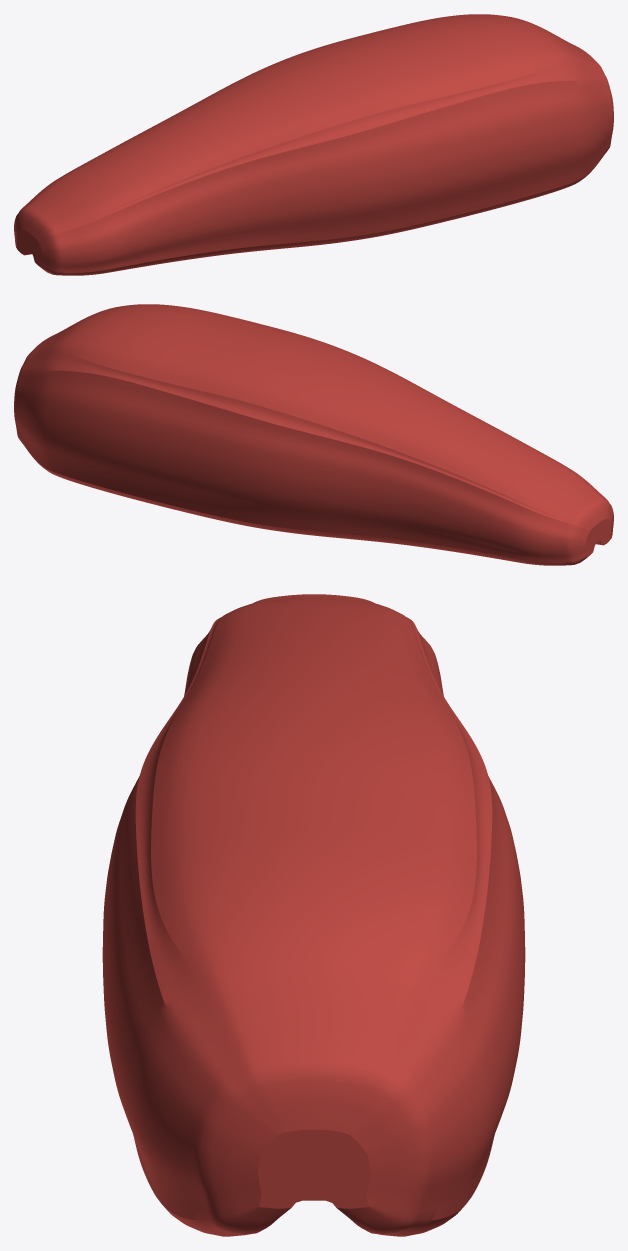
File: cruiser_4.glb
3 views of the same model, one above another, from view 1: azimuth 30°, elevation 25°; view 2: azimuth 150°, elevation 25°; view 3: azimuth 270°, elevation 25° (orthographic). The views are drawn at different scales.
Visible parts, largest first — view 1: cruiser_4; view 2: cruiser_4; view 3: cruiser_4.
Boxes of the visible parts, left/top/right/bottom form: cruiser_4: left=14, top=14, right=613, bottom=275; cruiser_4: left=14, top=304, right=613, bottom=565; cruiser_4: left=102, top=594, right=525, bottom=1236.
Bounding box in the file's own units: 1.06 × 0.2726 × 0.3455.
